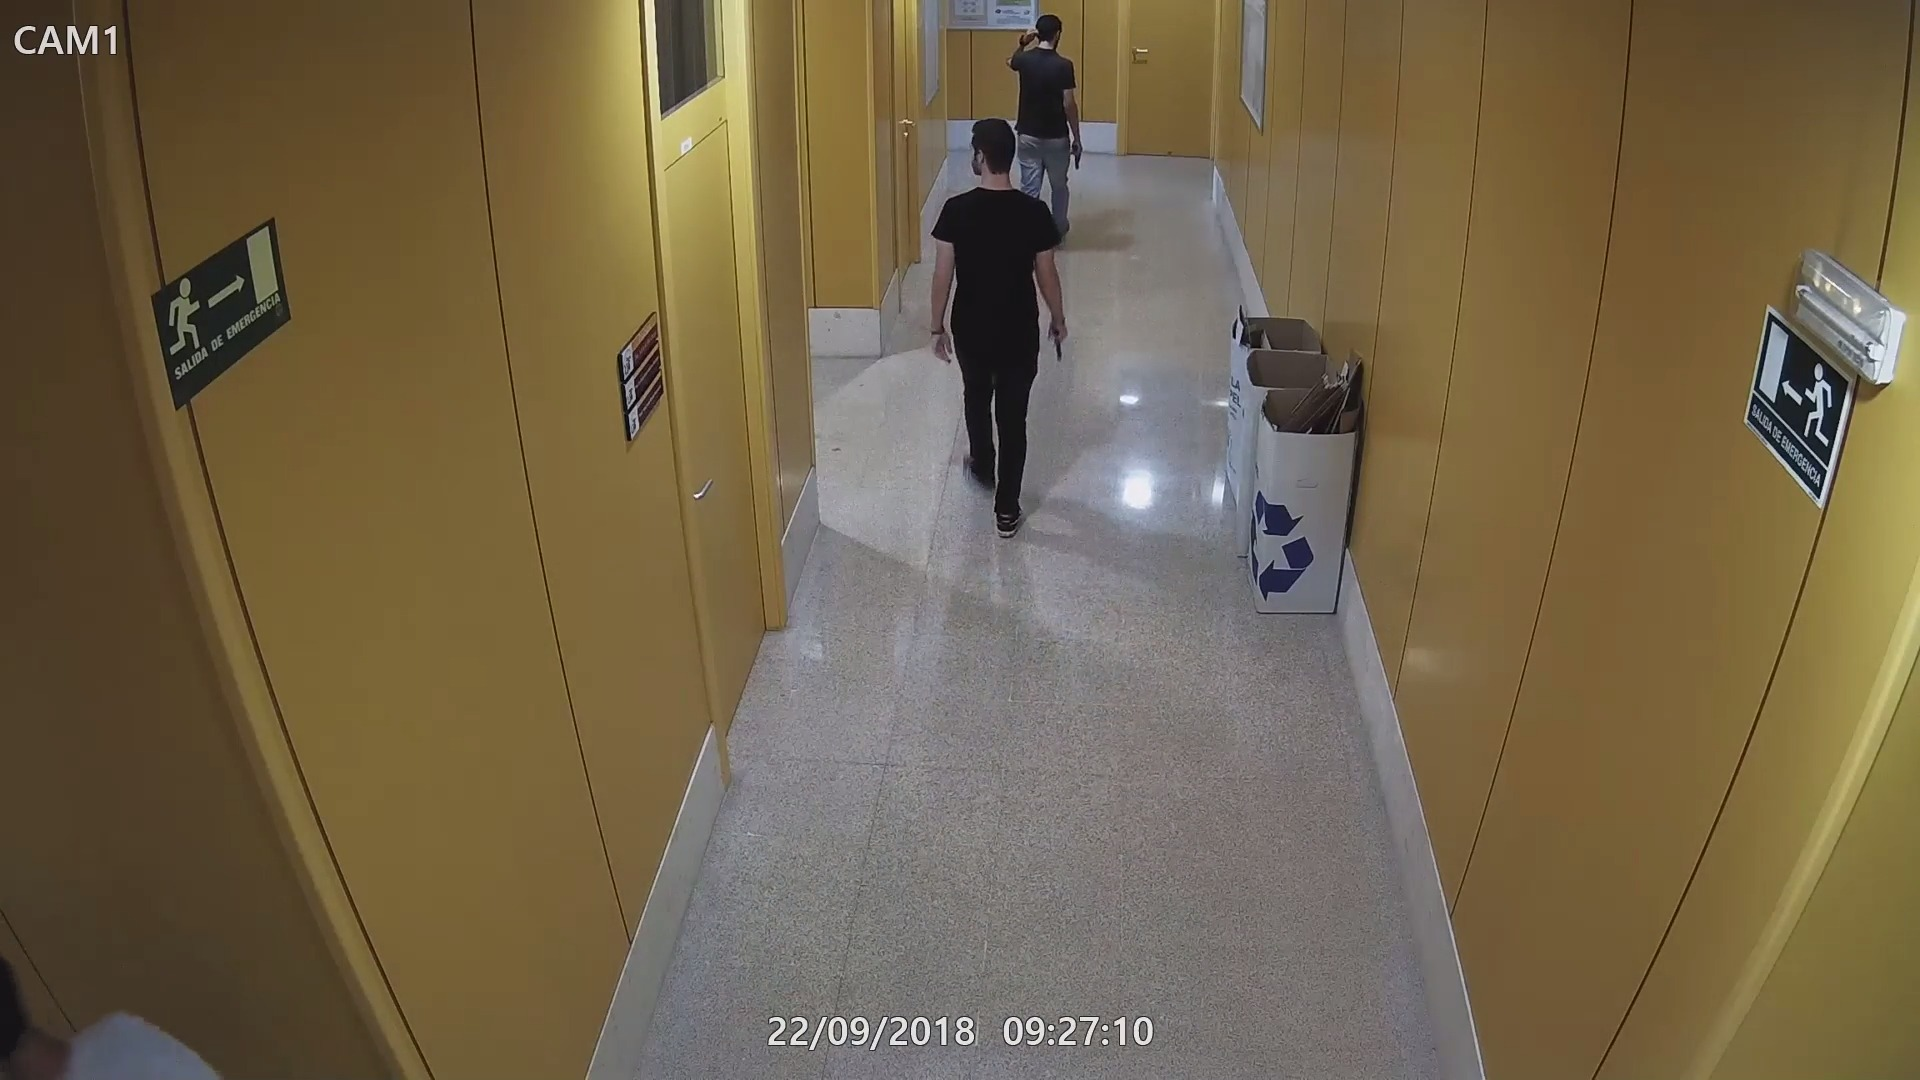Handgun: (1044, 313, 1071, 364), (1065, 138, 1091, 170)
